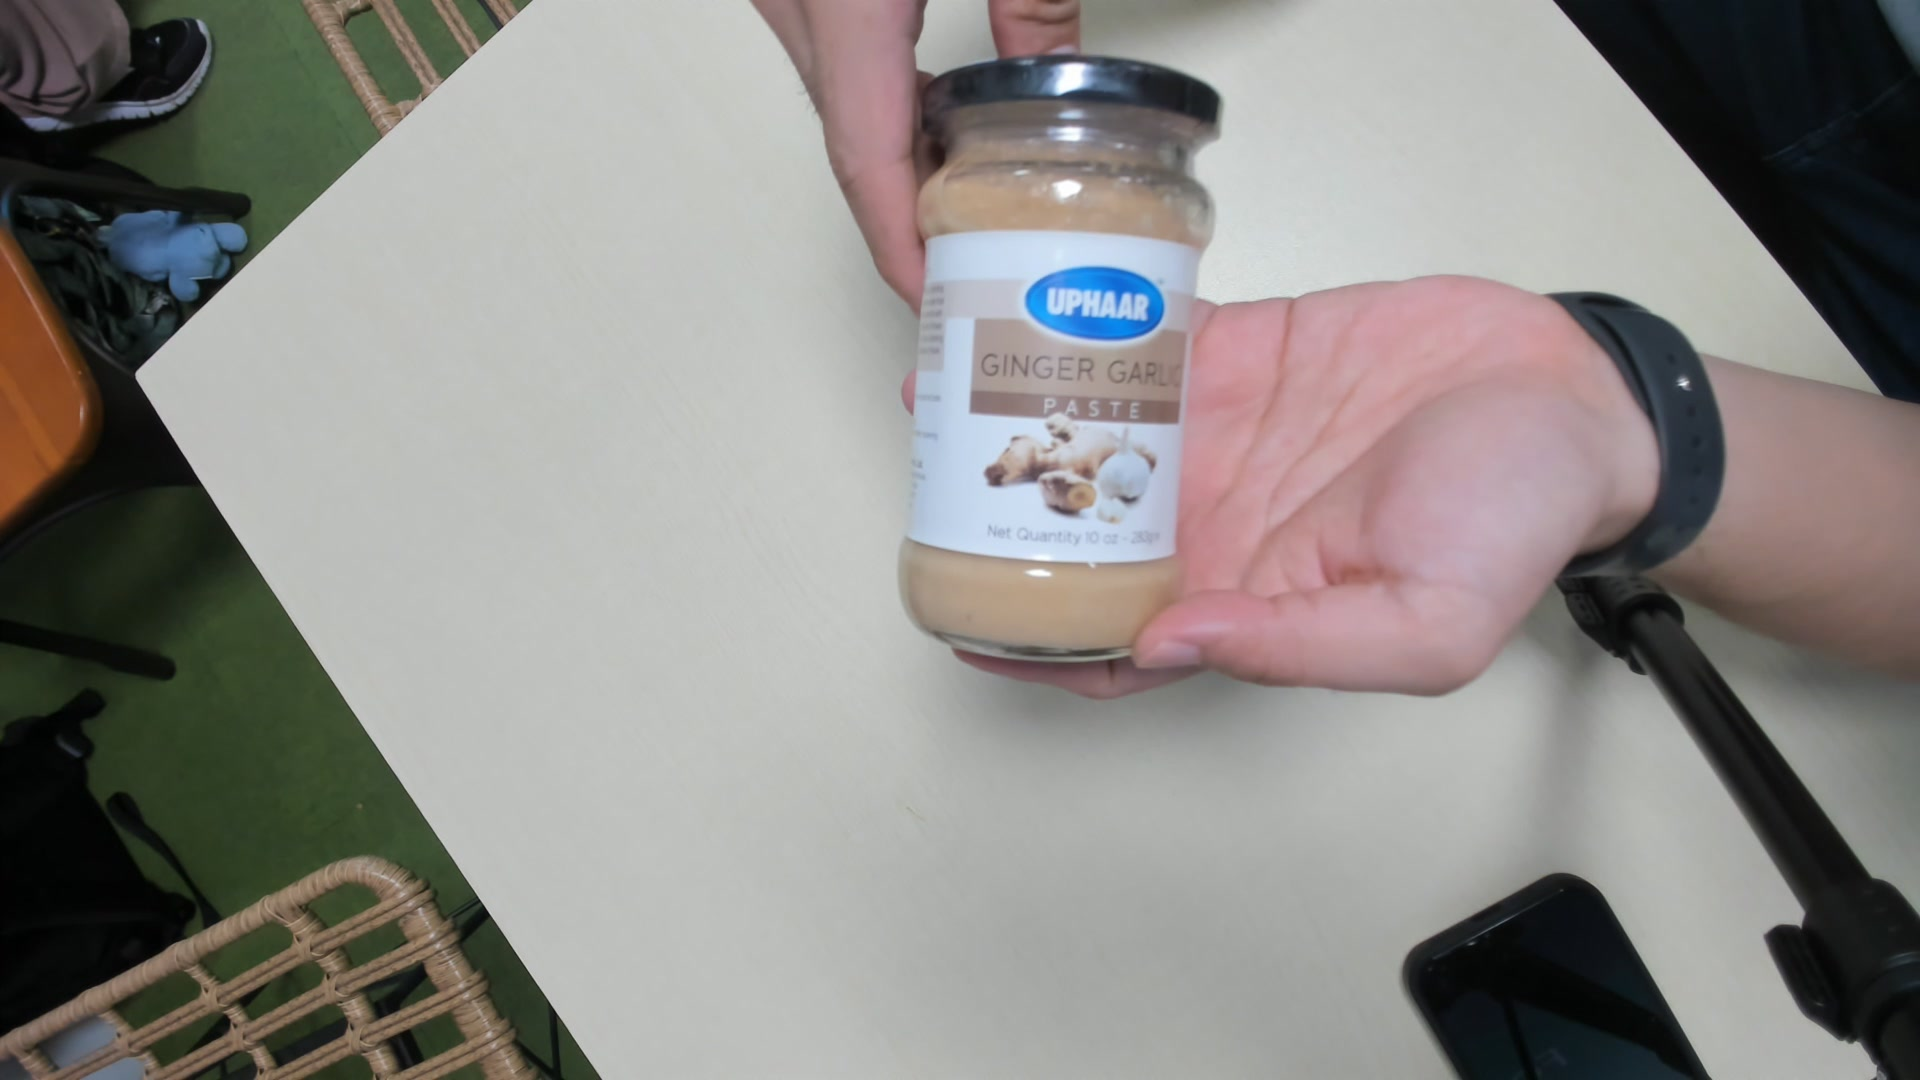OtherSauceDressing_200-299g_NonHalal_NonHealthy: (913, 61, 1203, 653)
